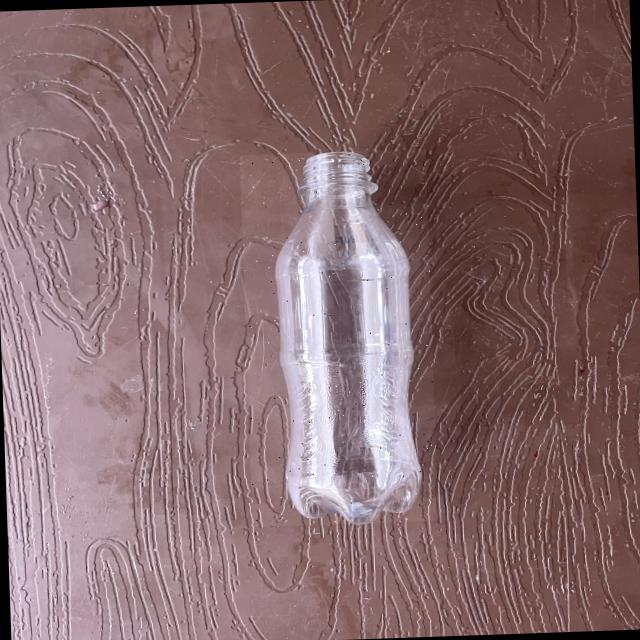PET_ClearBottle: (239, 148, 438, 526)
